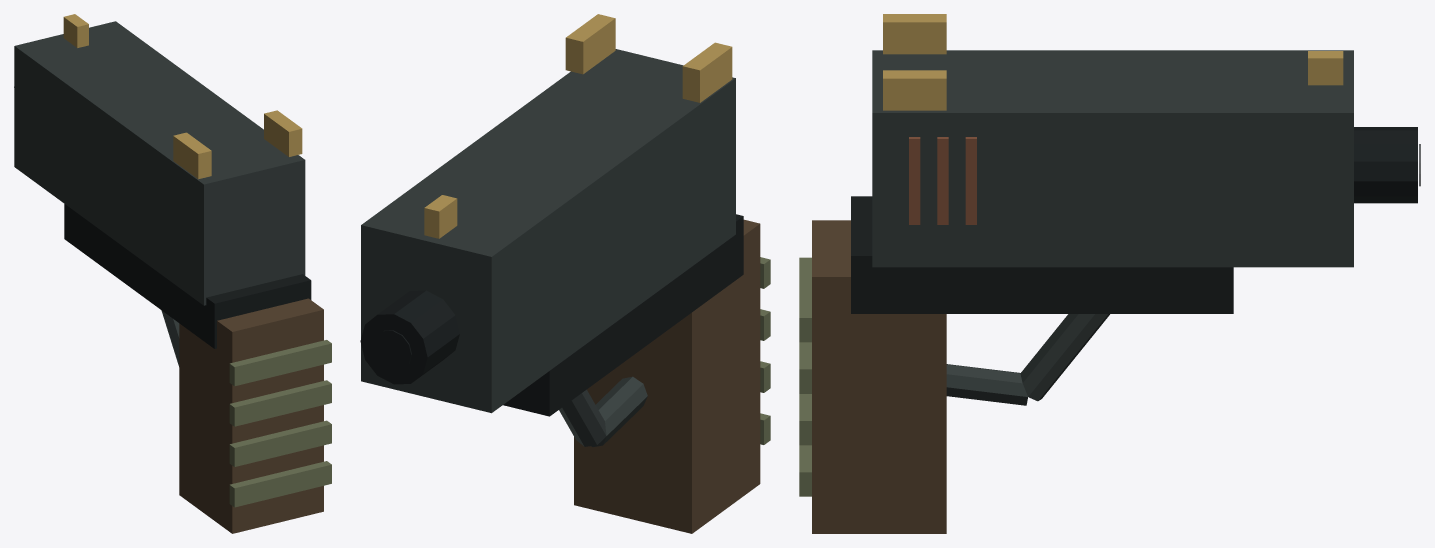
Rendered from scavenger_pistol.glb.
The picture shows the model from 3 angles, left to right: view 1: azimuth 30°, elevation 25°; view 2: azimuth 150°, elevation 25°; view 3: azimuth 270°, elevation 25°; orthographic projection. The views are drawn at different scales.
Parts seen in each view (by area): view 1: steel_slide, wrapped_grip, receiver, grip_wrap, grip_wrap.001, grip_wrap.002, grip_wrap.003, rear_sight, rear_sight.001, front_sight, trigger_guard; view 2: steel_slide, wrapped_grip, receiver, barrel, rear_sight.001, rear_sight, trigger_guard.001, trigger_guard, front_sight, bore; view 3: steel_slide, wrapped_grip, receiver, barrel, trigger_guard, rear_sight, rear_sight.001, trigger_guard.001, front_sight, grip_wrap, slide_serration, slide_serration.001 (+1 smaller).
Part boxes in pixels (x1,y1,x2,y2): steel_slide: [14, 21, 305, 305]; wrapped_grip: [179, 298, 323, 533]; receiver: [64, 204, 311, 348]; grip_wrap: [229, 340, 331, 386]; grip_wrap.001: [229, 380, 331, 426]; grip_wrap.002: [229, 420, 331, 466]; grip_wrap.003: [229, 461, 331, 507]; rear_sight: [173, 132, 211, 179]; rear_sight.001: [264, 110, 302, 156]; front_sight: [63, 14, 88, 47]; trigger_guard: [161, 310, 179, 366]; steel_slide: [361, 49, 735, 413]; wrapped_grip: [574, 219, 760, 533]; receiver: [503, 214, 743, 416]; barrel: [360, 290, 459, 384]; rear_sight.001: [565, 14, 615, 74]; rear_sight: [682, 42, 732, 102]; trigger_guard.001: [591, 376, 647, 446]; trigger_guard: [559, 389, 606, 446]; front_sight: [424, 195, 457, 238]; bore: [374, 330, 411, 369]; steel_slide: [872, 50, 1353, 267]; wrapped_grip: [812, 220, 946, 533]; receiver: [851, 196, 1233, 313]; barrel: [1354, 127, 1417, 203]; trigger_guard: [1020, 314, 1109, 401]; rear_sight: [883, 14, 946, 54]; rear_sight.001: [883, 70, 946, 110]; trigger_guard.001: [946, 364, 1027, 405]; front_sight: [1308, 51, 1343, 85]; grip_wrap: [799, 257, 811, 342]; slide_serration: [965, 137, 976, 224]; slide_serration.001: [937, 137, 948, 224].
Bounding box in the file's own units: 0.11 × 0.3575 × 0.4385.
